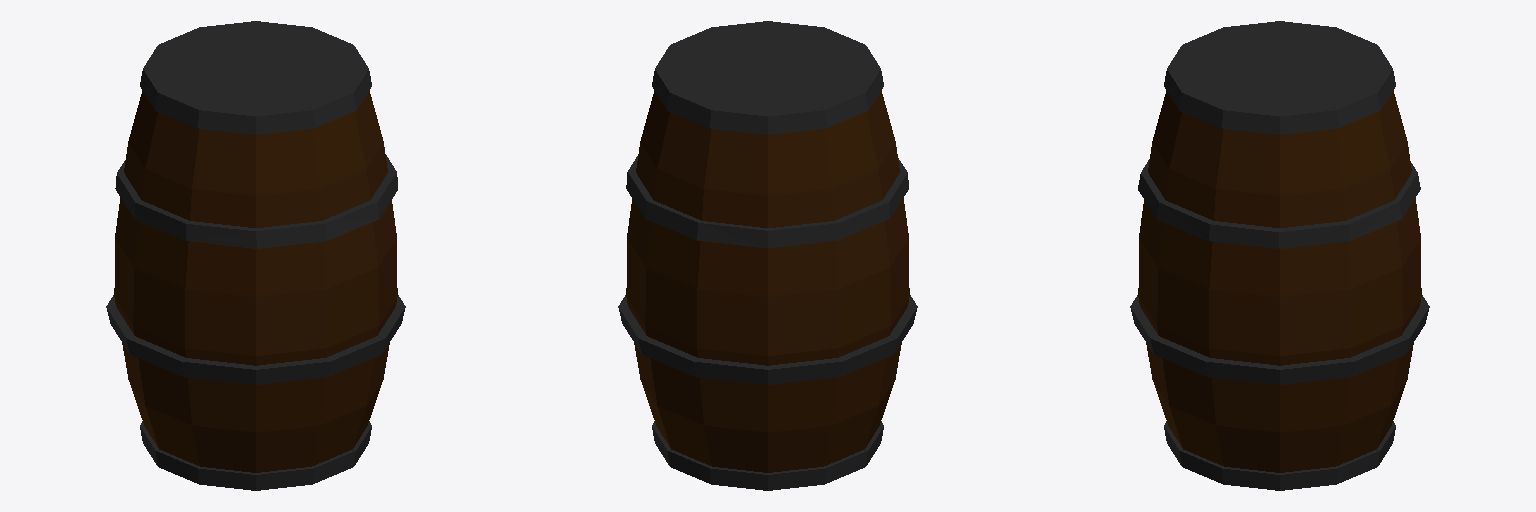
File: Barrel_Cube.obj
3 renders of one model, left to right at view 1: azimuth 30°, elevation 25°; view 2: azimuth 150°, elevation 25°; view 3: azimuth 270°, elevation 25°, orthographic.
Parts seen in each view (by area): view 1: Barrel_Cube.199; view 2: Barrel_Cube.199; view 3: Barrel_Cube.199.
Part boxes in pixels (bbox=[...]): Barrel_Cube.199: bbox=[106, 21, 405, 490]; Barrel_Cube.199: bbox=[618, 21, 917, 490]; Barrel_Cube.199: bbox=[1130, 21, 1429, 490].
Bounding box in the file's own units: 0.1032 × 0.1423 × 0.1032.